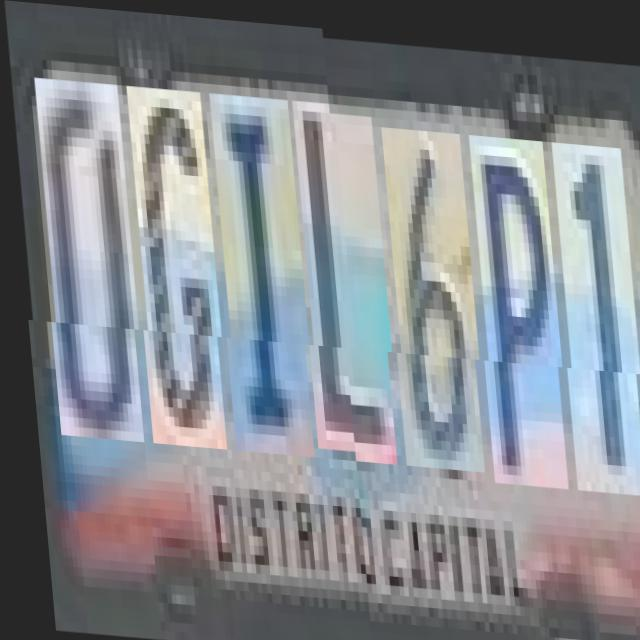0: (34, 87, 142, 450)
1: (550, 132, 639, 485)
6: (379, 120, 482, 464)
G: (126, 93, 224, 456)
I: (208, 99, 312, 462)
L: (291, 105, 394, 458)
P: (467, 127, 565, 480)
